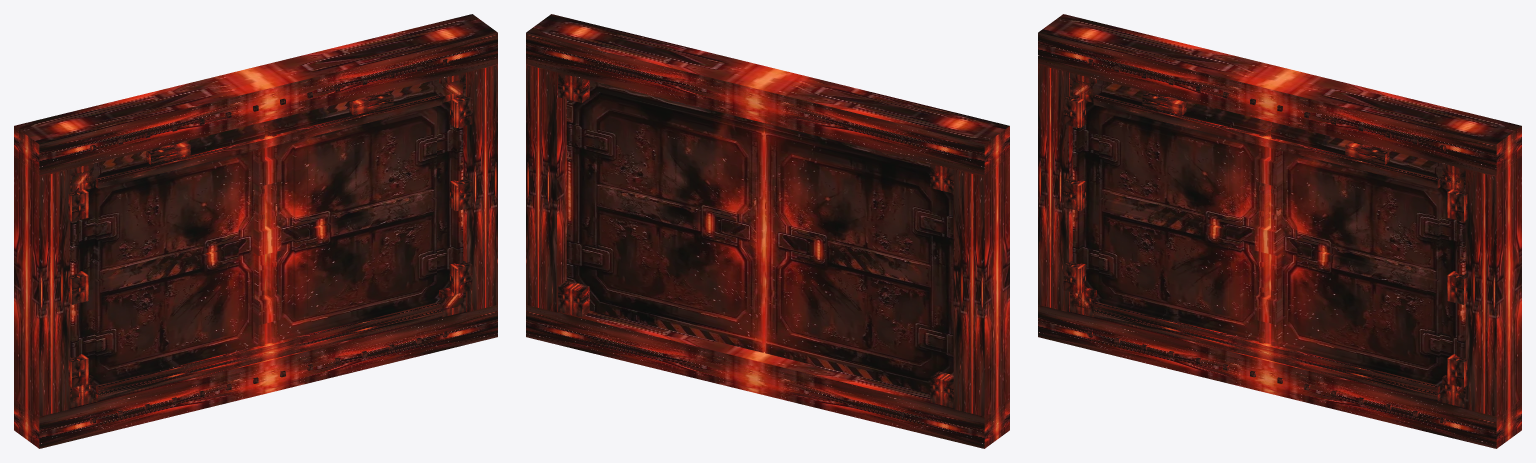
File: hangar_kapi_kara.glb
3 renders of one model, left to right at view 1: azimuth 30°, elevation 25°; view 2: azimuth 150°, elevation 25°; view 3: azimuth 330°, elevation 25°, orthographic.
Visible parts, largest first — view 1: FRAME, DOOR_R, DOOR_L; view 2: FRAME, DOOR_R, DOOR_L; view 3: FRAME, DOOR_L, DOOR_R.
Part boxes in pixels (x1,y1,x2,y2): FRAME: (14,14,497,448); DOOR_R: (264,79,463,343); DOOR_L: (70,122,270,398); FRAME: (526,14,1009,448); DOOR_R: (566,80,764,352); DOOR_L: (765,123,953,393); FRAME: (1038,14,1521,448); DOOR_L: (1072,79,1271,343); DOOR_R: (1265,122,1465,398).
Bounding box in the file's own units: 10.4 × 6.6 × 1.14.
1 material, 1 textured.
